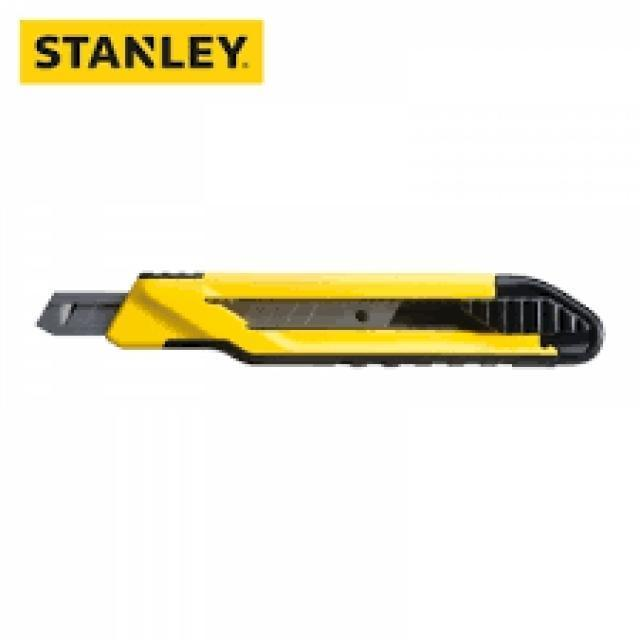cutter: (24, 250, 615, 378)
